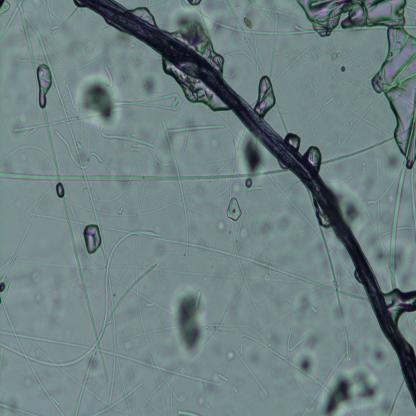Air bubble: (300, 0, 416, 169), (254, 74, 275, 119), (38, 63, 53, 108), (302, 142, 322, 170), (84, 223, 101, 254), (284, 131, 301, 150), (56, 182, 66, 199)
Background material: (320, 366, 380, 414), (174, 285, 206, 357), (79, 78, 117, 122), (356, 336, 394, 372), (260, 204, 296, 234), (338, 190, 365, 226), (240, 135, 263, 173), (190, 378, 212, 412), (326, 48, 349, 76), (294, 350, 314, 378), (21, 268, 47, 289), (226, 198, 242, 221), (0, 274, 10, 307), (223, 344, 234, 366), (214, 215, 225, 232), (118, 204, 124, 215)
Cotton: (82, 2, 416, 409)
Glass filter fibre: (0, 232, 163, 370), (152, 228, 366, 305), (0, 294, 65, 416), (18, 4, 58, 176), (309, 206, 352, 362), (0, 167, 287, 184), (161, 122, 191, 258), (6, 184, 49, 273), (227, 1, 264, 78), (389, 153, 409, 292), (230, 222, 258, 312), (321, 135, 395, 166), (53, 128, 104, 172), (190, 23, 316, 37), (233, 347, 268, 397), (13, 112, 88, 135), (90, 383, 141, 415), (114, 92, 182, 114), (100, 123, 156, 148), (224, 219, 244, 276), (0, 0, 24, 40), (54, 7, 79, 40), (286, 319, 309, 353), (269, 13, 278, 76), (167, 124, 226, 132), (410, 169, 416, 228), (100, 65, 114, 89), (64, 84, 76, 110), (176, 406, 202, 416), (194, 287, 202, 310), (245, 184, 262, 194), (216, 372, 229, 383), (309, 306, 318, 314)
